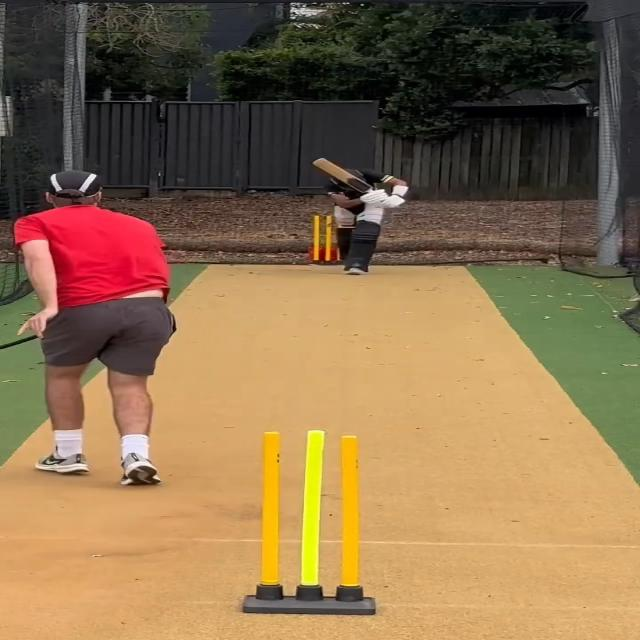stump: (240, 426, 377, 616), (313, 214, 343, 267)
